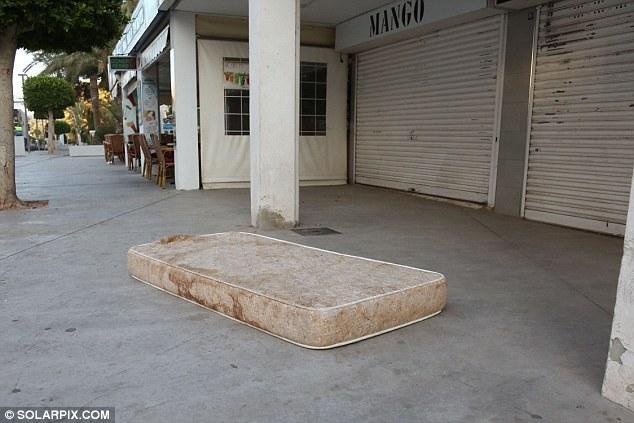Bed-Mattress: (111, 215, 456, 357)
